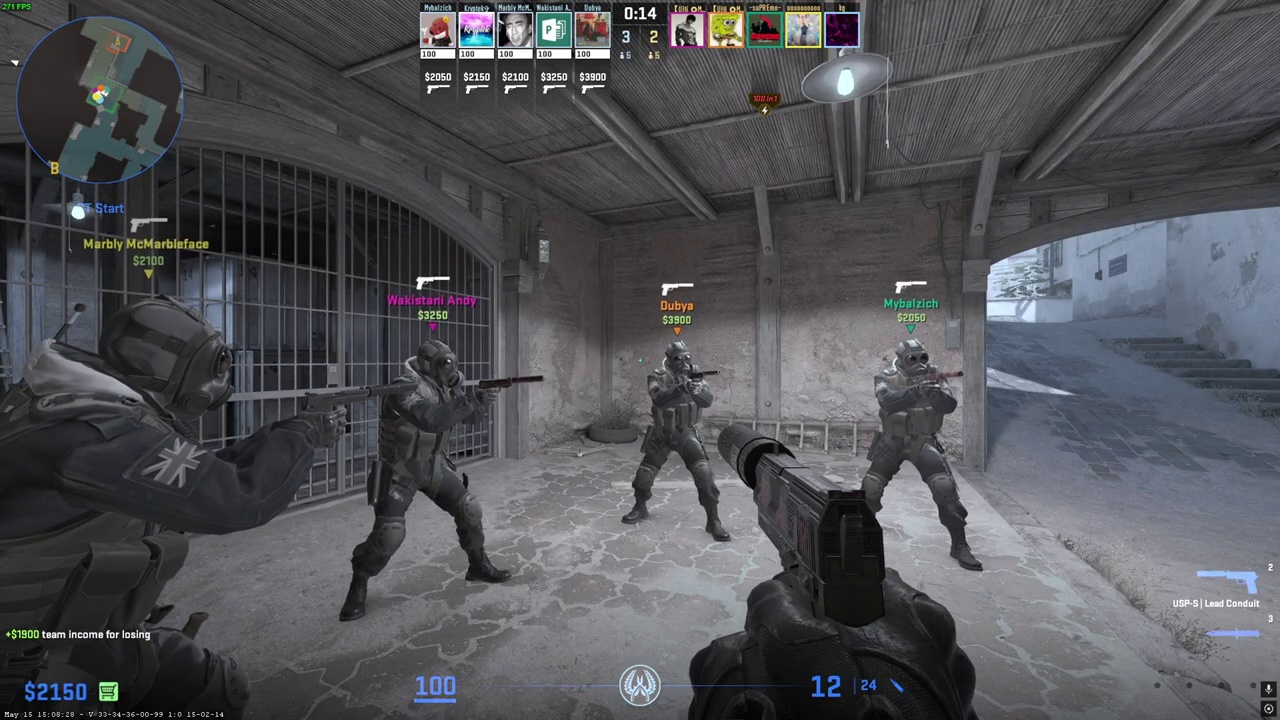CT: (0, 298, 261, 720), (359, 340, 511, 610), (867, 339, 981, 571), (627, 342, 729, 540)
